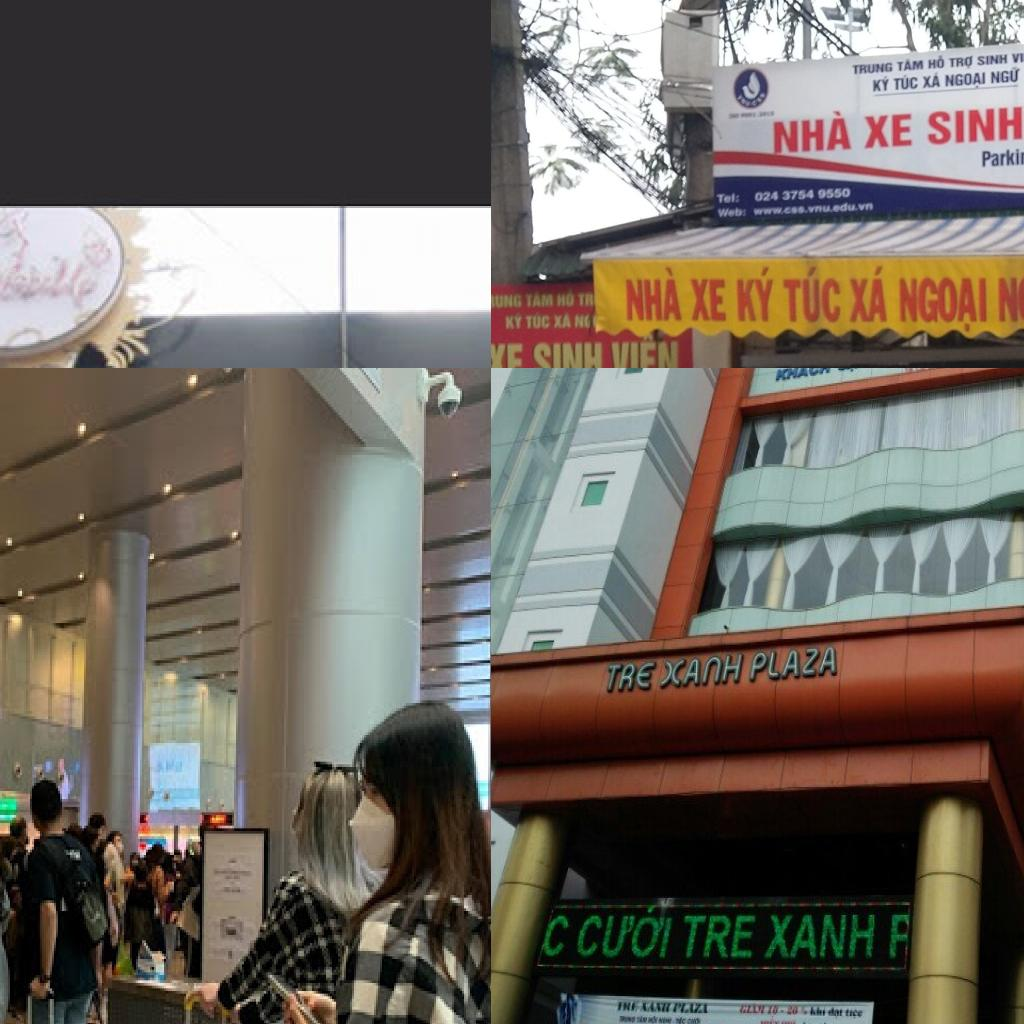text: (570, 904, 677, 964), (764, 912, 882, 963), (898, 277, 987, 332), (679, 914, 763, 964), (772, 108, 854, 156), (928, 106, 1024, 146), (783, 265, 842, 324), (657, 653, 746, 692), (626, 266, 684, 323), (749, 646, 840, 682), (847, 265, 889, 324), (736, 264, 776, 323), (609, 335, 679, 368), (602, 662, 660, 696), (752, 201, 874, 217), (864, 112, 913, 150), (532, 342, 602, 368), (884, 912, 915, 966), (690, 278, 727, 322), (996, 264, 1024, 322), (542, 912, 572, 962), (754, 188, 852, 202), (981, 146, 1024, 170), (491, 342, 524, 368), (944, 71, 986, 91), (776, 368, 833, 382), (672, 1002, 713, 1017), (212, 868, 254, 882), (990, 66, 1021, 84), (640, 999, 672, 1016), (851, 62, 893, 74), (525, 291, 554, 308), (892, 74, 919, 91), (526, 312, 550, 330), (948, 54, 974, 70), (976, 54, 1008, 67), (616, 998, 642, 1014), (491, 294, 522, 307), (896, 58, 924, 72), (738, 1002, 766, 1016), (556, 288, 576, 307), (922, 72, 942, 89), (844, 1006, 865, 1022), (715, 193, 742, 205), (554, 311, 572, 329), (718, 207, 746, 218), (872, 75, 890, 92), (505, 313, 523, 330), (835, 368, 872, 376), (828, 1006, 846, 1022), (928, 54, 945, 70), (808, 1003, 827, 1017), (578, 293, 594, 307), (786, 1003, 800, 1017), (1011, 49, 1024, 64), (757, 1016, 780, 1024), (768, 1003, 782, 1016), (574, 313, 584, 330), (657, 1015, 675, 1024), (618, 1016, 636, 1024), (635, 1014, 649, 1024), (647, 1014, 660, 1024), (687, 1017, 703, 1024), (780, 1019, 798, 1024), (902, 368, 916, 374), (675, 1017, 687, 1024), (915, 368, 927, 373), (927, 368, 942, 371)
